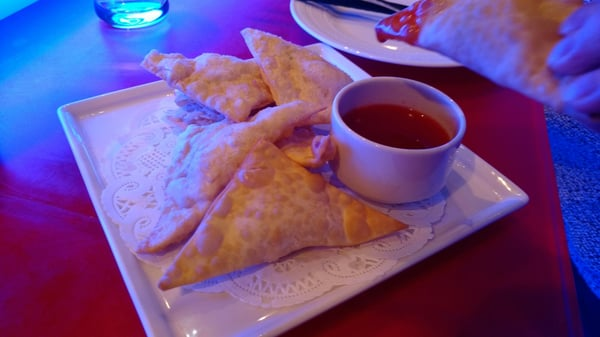pizza: (311, 76, 467, 207), (93, 1, 170, 30)
soup: (152, 138, 339, 290)
